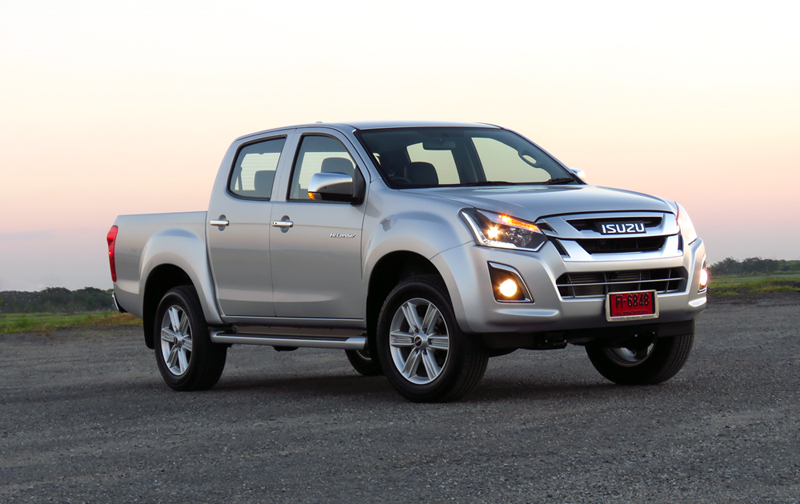pickup: (106, 119, 711, 401)
